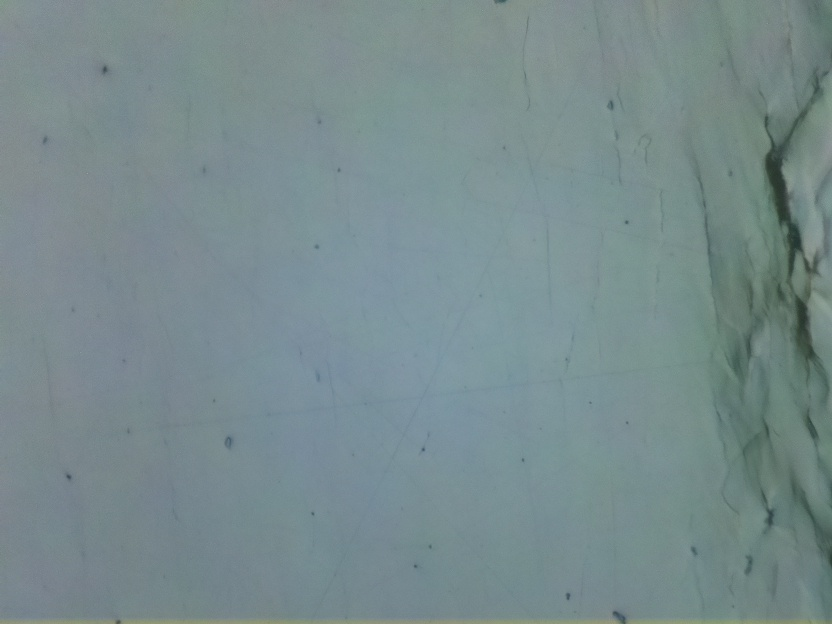crack: (758, 117, 832, 379)
